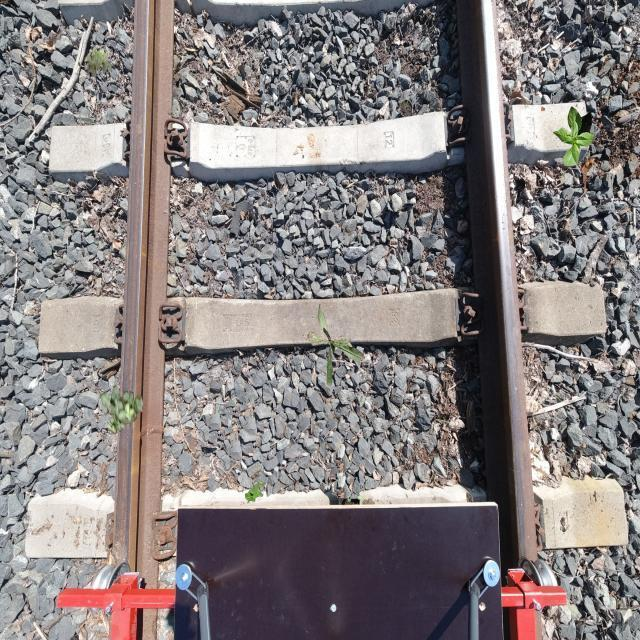Plant: (302, 304, 366, 388), (553, 106, 595, 166), (100, 385, 144, 435), (86, 46, 112, 78), (245, 480, 264, 504)
